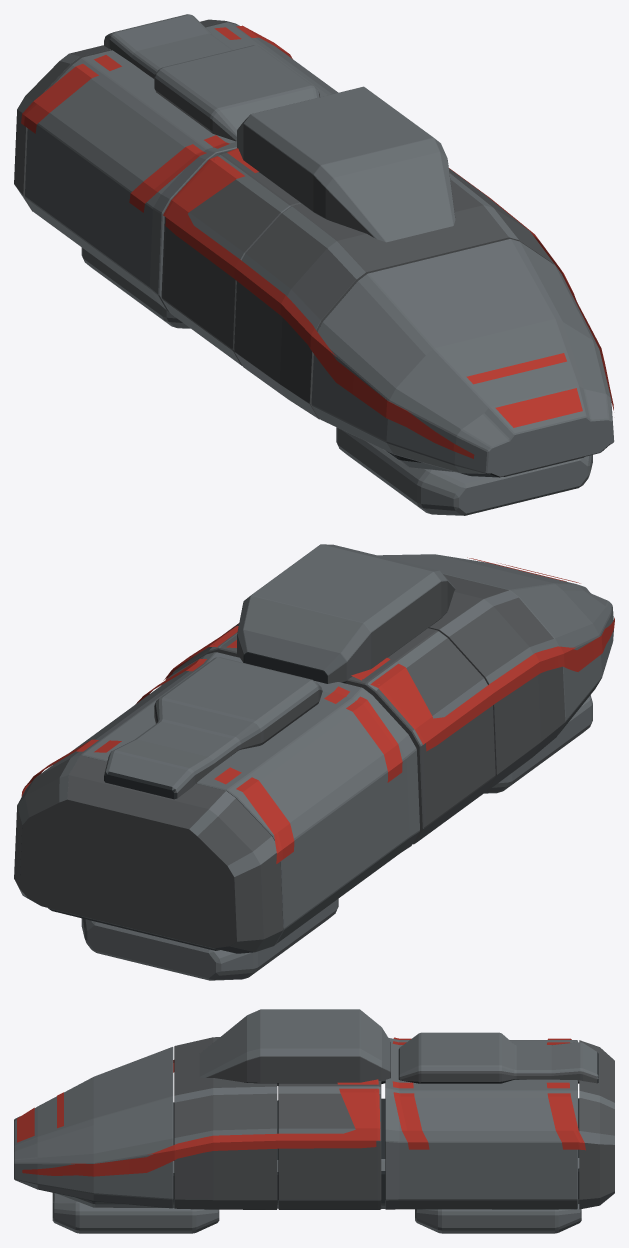
File: blockout.glb
The picture shows the model from 3 angles, top to bottom: view 1: azimuth 30°, elevation 25°; view 2: azimuth 150°, elevation 25°; view 3: azimuth 270°, elevation 25°; orthographic projection. The views are drawn at different scales.
Visible parts, largest first — view 1: integrated_nose, cargo_access_shell, machinery_spine, cab_shoulders, team_livery, cargo_roof_spine, cargo_body, sled_cargo_front, tail_armour, sled_cargo_rear; view 2: tail_armour, cargo_access_shell, machinery_spine, cargo_roof_spine, cab_shoulders, cargo_body, team_livery, integrated_nose, sled_cargo_rear, sled_cargo_front; view 3: cargo_access_shell, integrated_nose, cab_shoulders, machinery_spine, team_livery, cargo_body, cargo_roof_spine, tail_armour, sled_cargo_front, sled_cargo_rear, load_bearing_keel.
Part boxes in pixels (x1=…): integrated_nose: x1=311, y1=239, x2=614, y2=477; cargo_access_shell: x1=25, y1=22, x2=338, y2=311; machinery_spine: x1=237, y1=86, x2=455, y2=242; cab_shoulders: x1=234, y1=173, x2=561, y2=419; team_livery: x1=21, y1=25, x2=613, y2=458; cargo_roof_spine: x1=104, y1=14, x2=319, y2=141; cargo_body: x1=161, y1=151, x2=483, y2=365; sled_cargo_front: x1=336, y1=427, x2=592, y2=515; tail_armour: x1=14, y1=19, x2=239, y2=211; sled_cargo_rear: x1=81, y1=247, x2=190, y2=328; tail_armour: x1=14, y1=755, x2=283, y2=953; cargo_access_shell: x1=37, y1=652, x2=419, y2=944; machinery_spine: x1=237, y1=544, x2=455, y2=683; cargo_roof_spine: x1=104, y1=657, x2=322, y2=799; cab_shoulders: x1=428, y1=574, x2=565, y2=790; cargo_body: x1=171, y1=624, x2=495, y2=844; team_livery: x1=21, y1=557, x2=614, y2=863; integrated_nose: x1=378, y1=554, x2=613, y2=735; sled_cargo_rear: x1=81, y1=899, x2=338, y2=980; sled_cargo_front: x1=484, y1=695, x2=592, y2=793; cargo_access_shell: x1=385, y1=1038, x2=577, y2=1209; integrated_nose: x1=14, y1=1047, x2=173, y2=1208; cab_shoulders: x1=174, y1=1037, x2=277, y2=1209; machinery_spine: x1=199, y1=1009, x2=390, y2=1085; team_livery: x1=17, y1=1037, x2=585, y2=1176; cargo_body: x1=278, y1=1080, x2=381, y2=1209; cargo_roof_spine: x1=398, y1=1032, x2=598, y2=1083; tail_armour: x1=579, y1=1040, x2=614, y2=1209; sled_cargo_front: x1=52, y1=1193, x2=219, y2=1233; sled_cargo_rear: x1=415, y1=1204, x2=581, y2=1233; load_bearing_keel: x1=57, y1=1098, x2=579, y2=1209.
Size of the model in its own units: 3.58 by 3.26 by 9.95.
